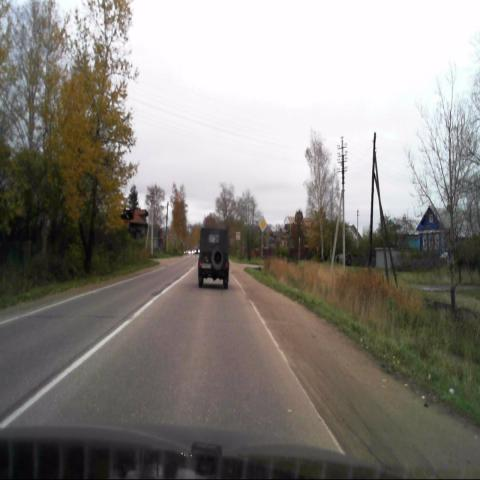2_1: (258, 216, 268, 231)
